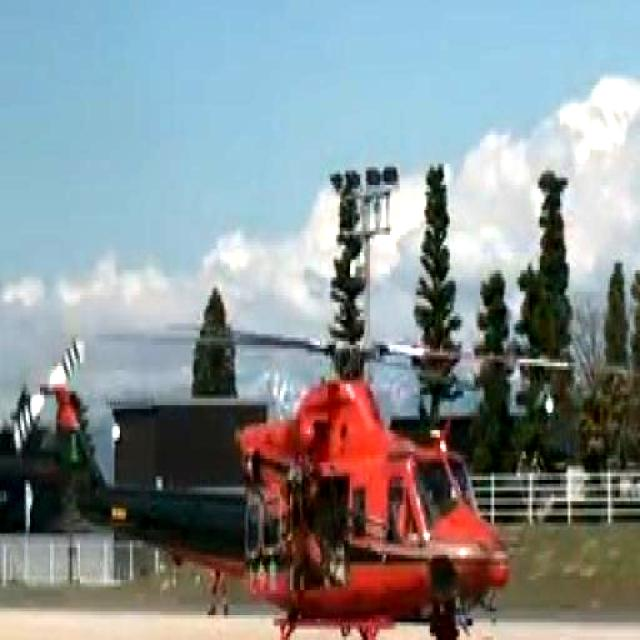drone: (4, 274, 640, 640)
